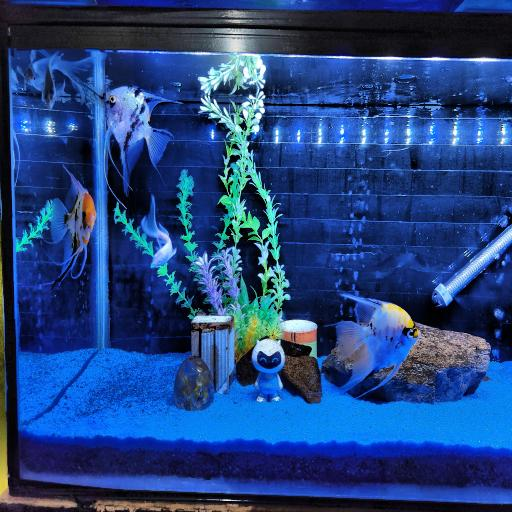Fish: (335, 295, 420, 397), (104, 87, 180, 195), (52, 167, 96, 284), (24, 50, 92, 109), (142, 195, 176, 267)
